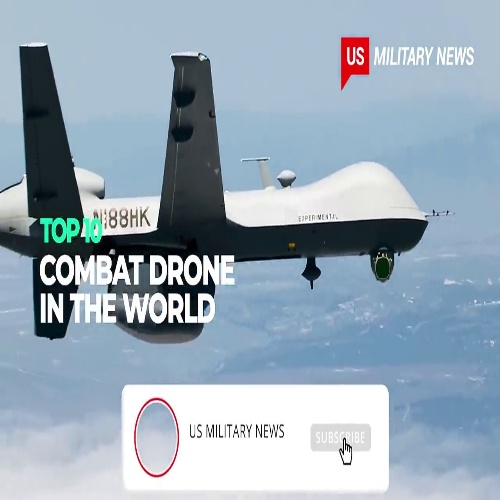uav125: (1, 45, 434, 342)
